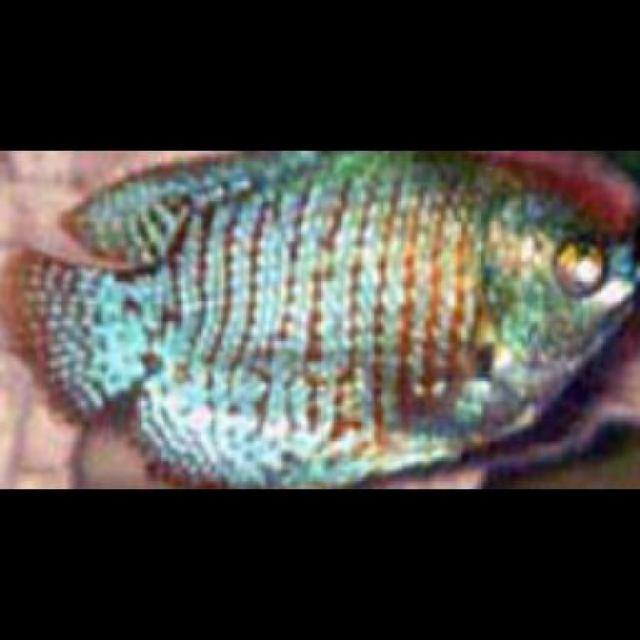Gourami: (1, 148, 638, 490)
